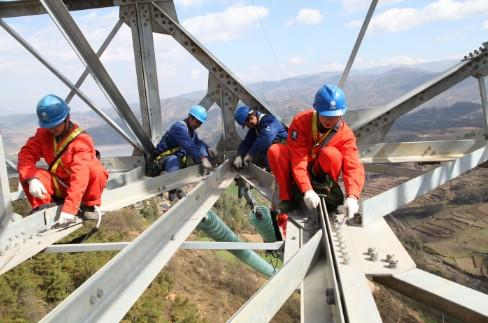boots: (346, 213, 362, 227)
gloves: (27, 177, 46, 199), (302, 189, 320, 210), (342, 197, 358, 218), (57, 212, 74, 226), (232, 154, 243, 169), (201, 156, 212, 170), (243, 152, 253, 167), (207, 146, 218, 159)
hard-hat: (36, 93, 70, 128), (313, 84, 347, 117), (188, 104, 208, 124), (233, 105, 252, 126)
person: (266, 83, 366, 221), (16, 93, 108, 226), (146, 104, 217, 200), (232, 105, 288, 173)
ppe-suit: (266, 109, 366, 208), (16, 123, 109, 217), (148, 118, 203, 172)
vest: (246, 113, 285, 163)
